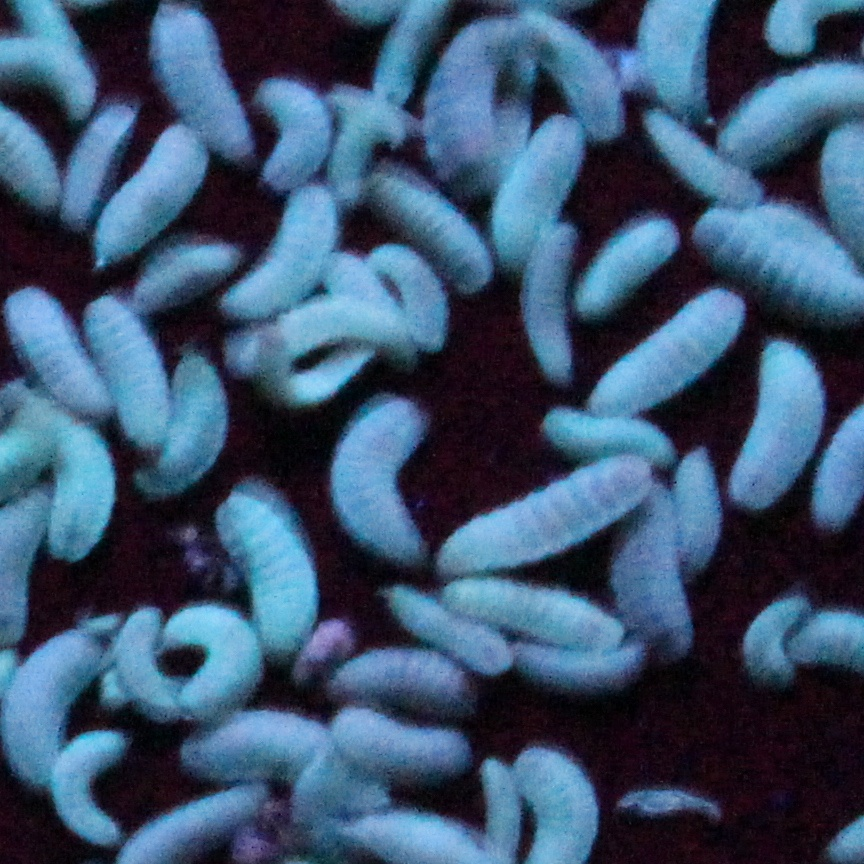larve: (449, 456, 645, 573), (612, 302, 748, 416), (334, 406, 432, 552), (440, 578, 630, 653), (216, 501, 318, 639), (153, 4, 247, 153), (741, 352, 826, 510), (98, 134, 208, 256), (523, 15, 631, 138), (91, 301, 176, 445), (238, 194, 342, 311), (370, 167, 488, 268), (6, 291, 99, 412), (428, 17, 509, 155), (500, 121, 584, 252), (40, 419, 116, 561), (395, 592, 514, 678), (337, 710, 469, 785), (63, 729, 143, 852), (231, 314, 420, 366), (162, 617, 266, 708), (587, 219, 684, 316), (654, 116, 755, 209), (327, 655, 482, 714), (184, 721, 335, 781), (61, 103, 136, 220), (167, 361, 237, 479), (252, 79, 327, 188), (139, 240, 241, 313), (245, 341, 373, 399), (533, 227, 574, 382), (377, 253, 451, 333), (539, 415, 673, 457), (380, 3, 437, 98), (672, 461, 728, 557), (112, 623, 172, 703), (742, 603, 794, 679)
